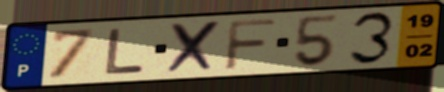3: (343, 10, 400, 67)
5: (291, 13, 339, 69)
7: (47, 26, 96, 81)
F: (221, 17, 279, 72)
L: (103, 27, 148, 77)
X: (164, 19, 225, 76)
